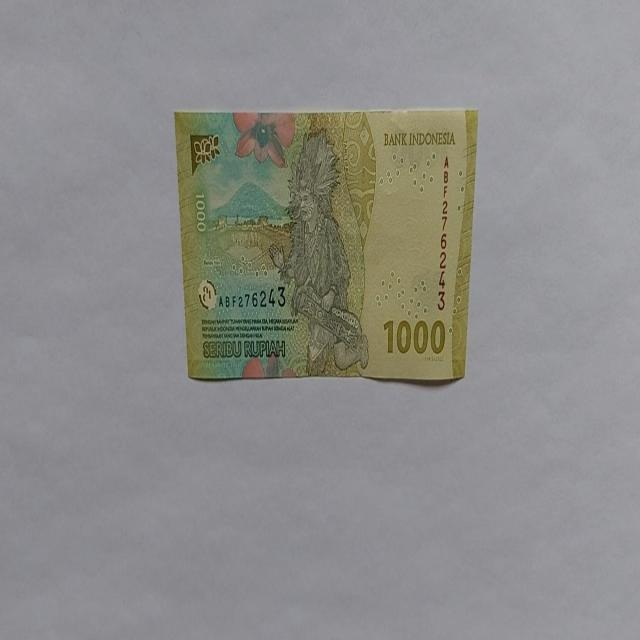seribu rupiah kertas: (174, 106, 478, 384)
